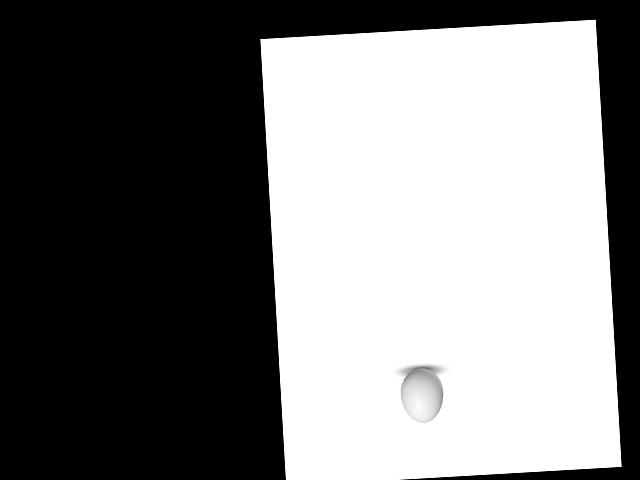egg: (399, 367, 443, 424)
